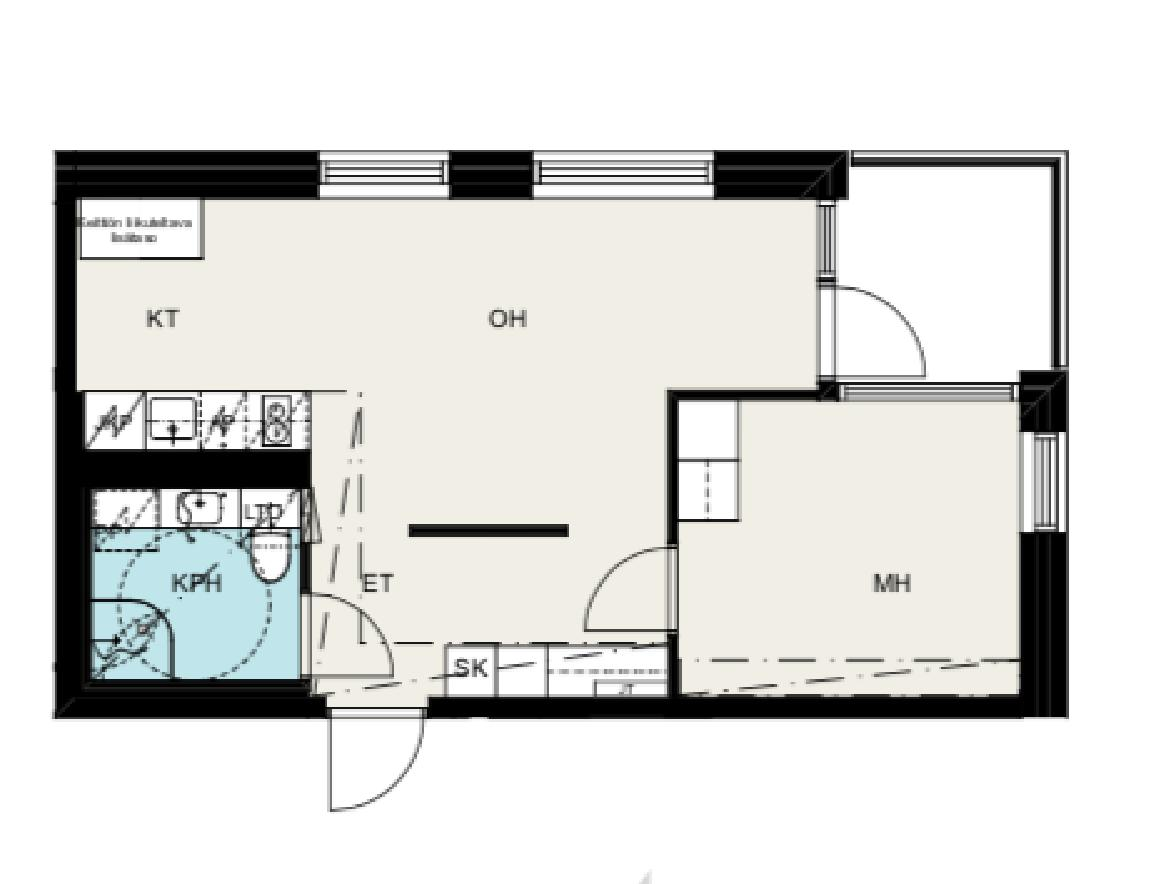door: (807, 282, 937, 381), (328, 706, 432, 820), (571, 546, 685, 637), (287, 593, 395, 684)
window: (75, 192, 817, 701), (672, 396, 1027, 706), (83, 478, 300, 682), (534, 149, 711, 197), (315, 151, 449, 198), (1028, 429, 1075, 535), (838, 381, 1021, 404), (816, 203, 834, 283)
